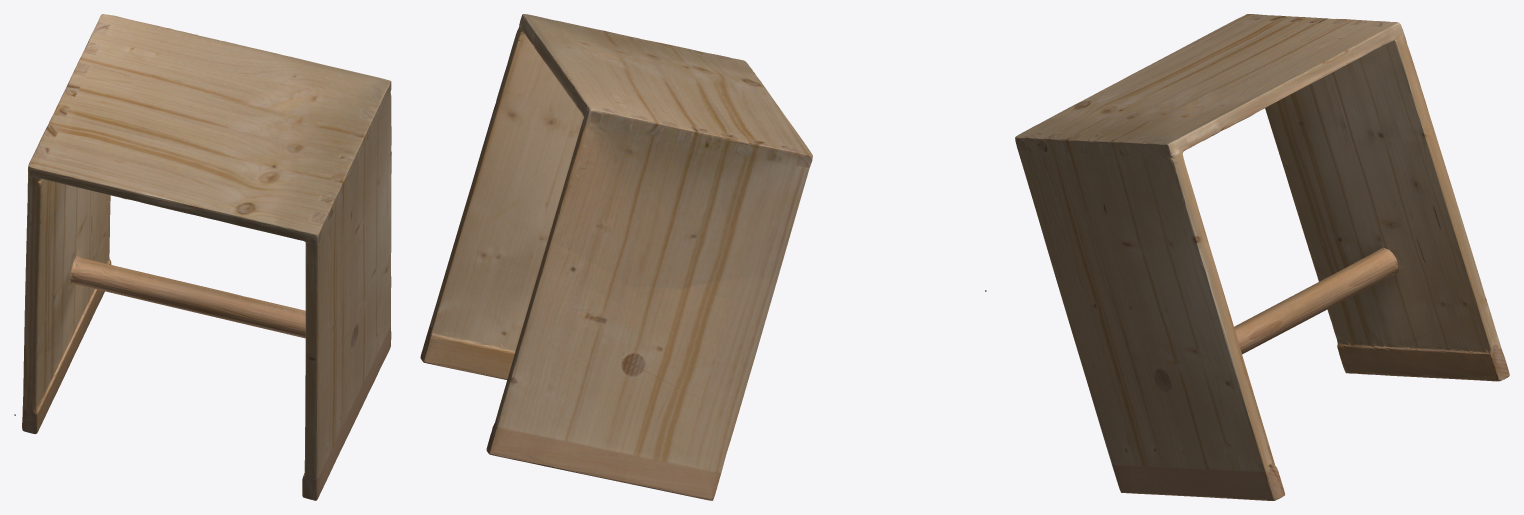
The model's file is BEFABD8D-0AD4-804A-912C-0758C51C88E9_2k.glb.
3 views of the same model, side by side, from view 1: azimuth 30°, elevation 25°; view 2: azimuth 150°, elevation 25°; view 3: azimuth 270°, elevation 25° (orthographic). The views are drawn at different scales.
Parts seen in each view (by area): view 1: Ulmer Hocker_4k_2k; view 2: Ulmer Hocker_4k_2k; view 3: Ulmer Hocker_4k_2k.
Part boxes in pixels (x1,y1,x2,y2): Ulmer Hocker_4k_2k: [14, 14, 391, 500]; Ulmer Hocker_4k_2k: [420, 14, 986, 500]; Ulmer Hocker_4k_2k: [1015, 14, 1509, 500].
Bounding box in the file's own units: 0.6834 × 0.5715 × 0.5978.
1 material, 1 textured.
